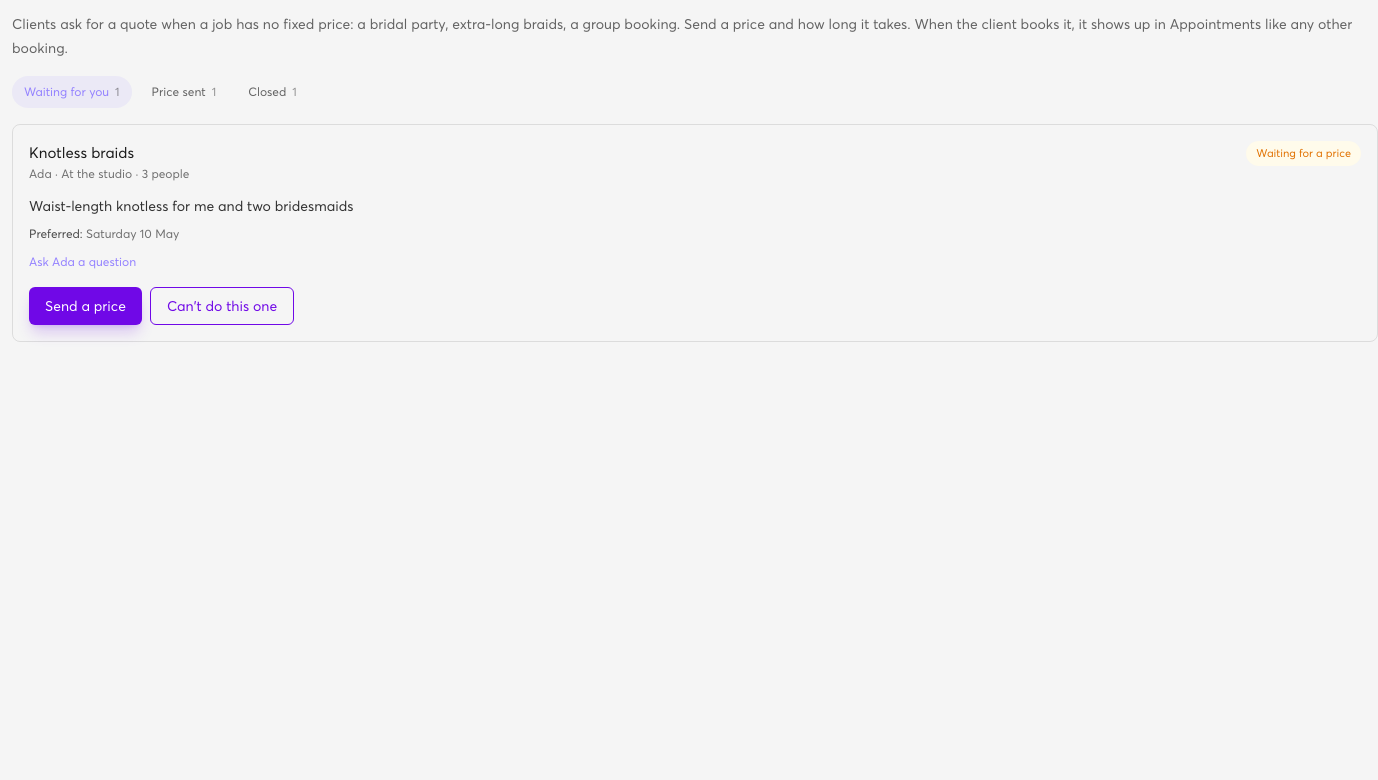
StylerQuotes › sending a price posts it with the duration and how long it holds
Click the button "Send a price": (85, 306) [29,287,142,325]
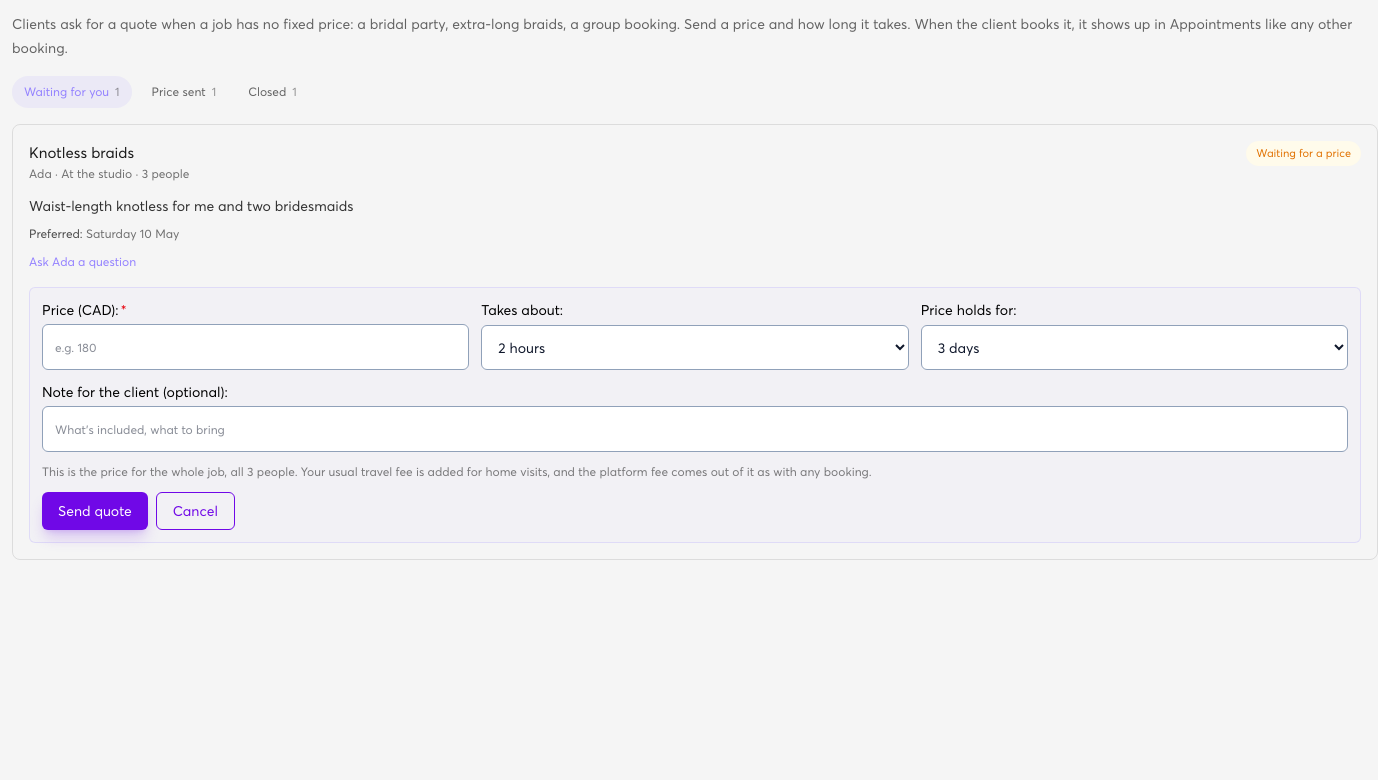
In the field labelled "Price (CAD):": (256, 347) [42,324,469,370], type "$390"
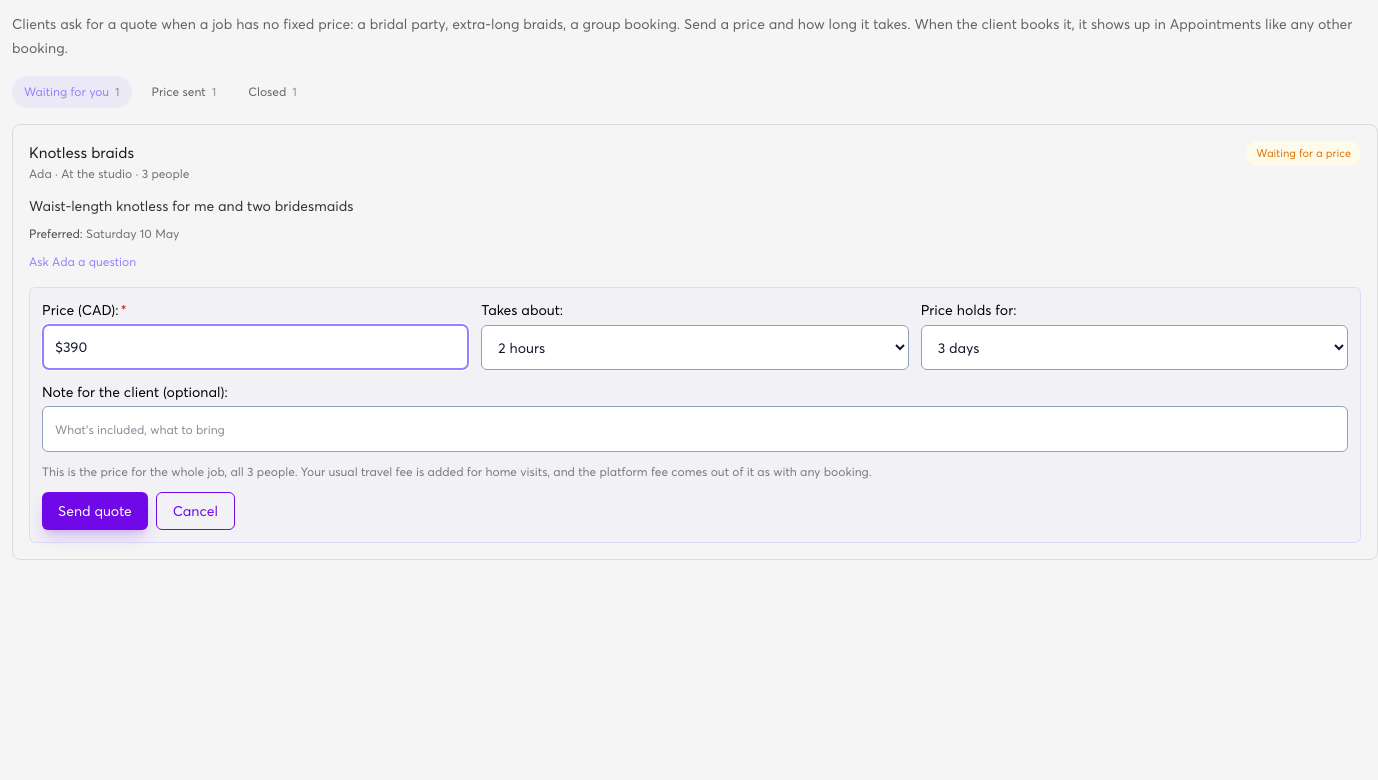
Select "5 hours" in the dropdown labelled "Takes about:": (695, 347) [481,324,909,370]
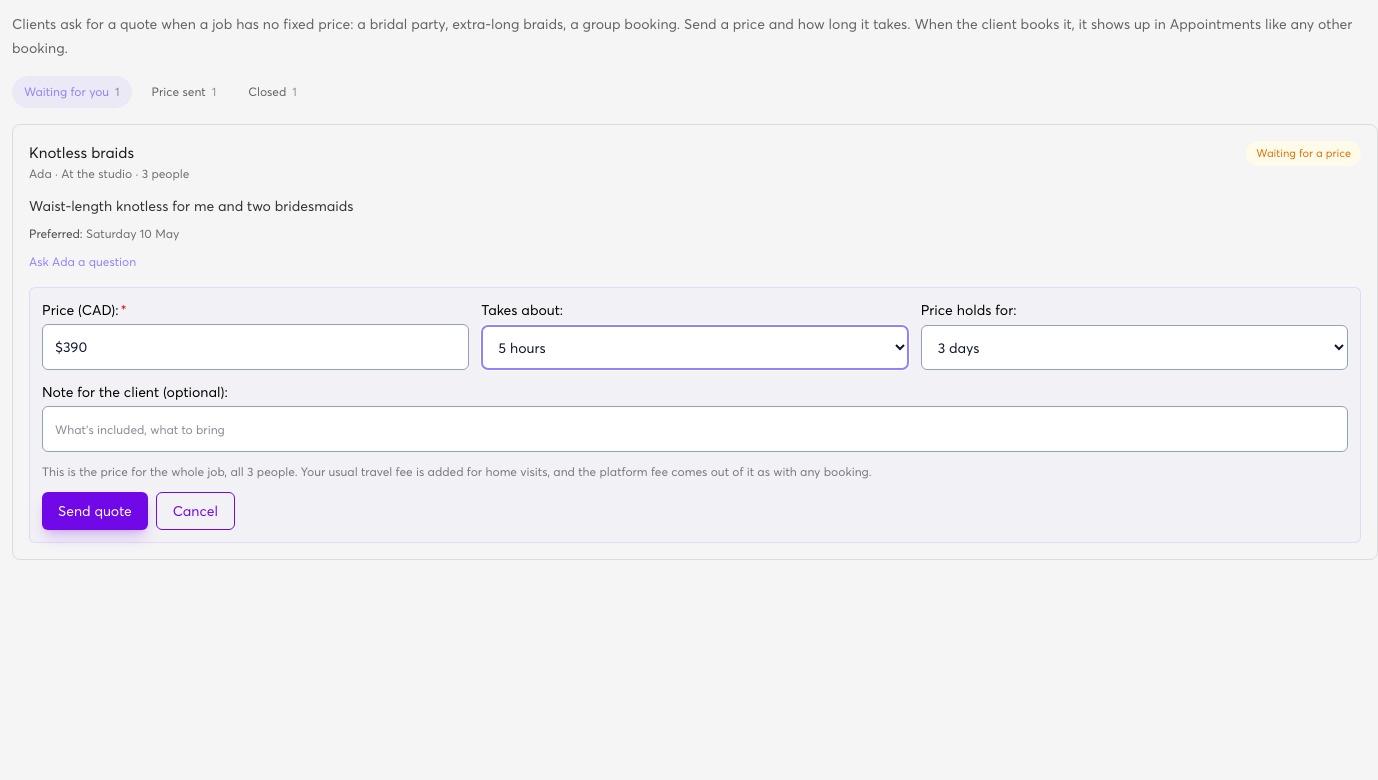
Select "7 days" in the dropdown labelled "Price holds for:": (1134, 347) [921,324,1348,370]
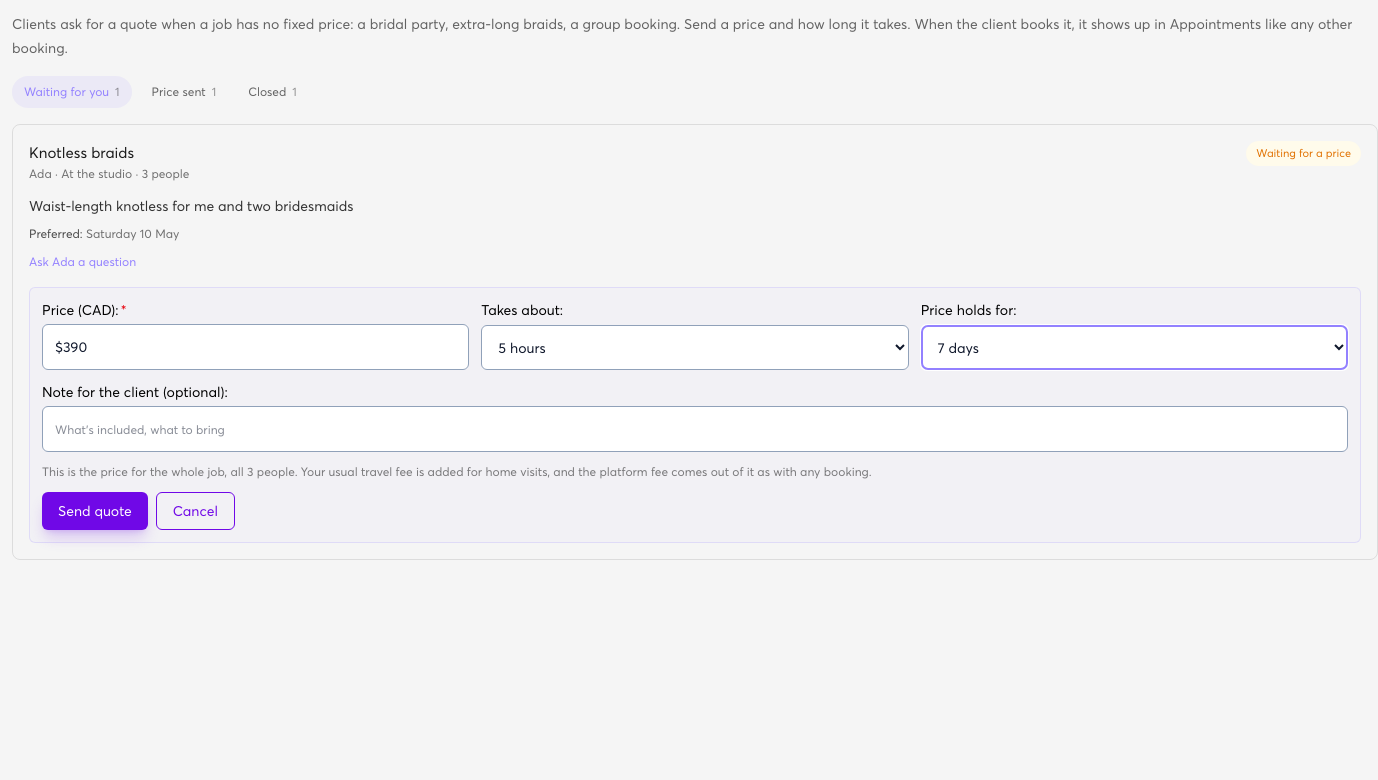
Click the button "Send quote": (95, 511) [42,492,148,530]
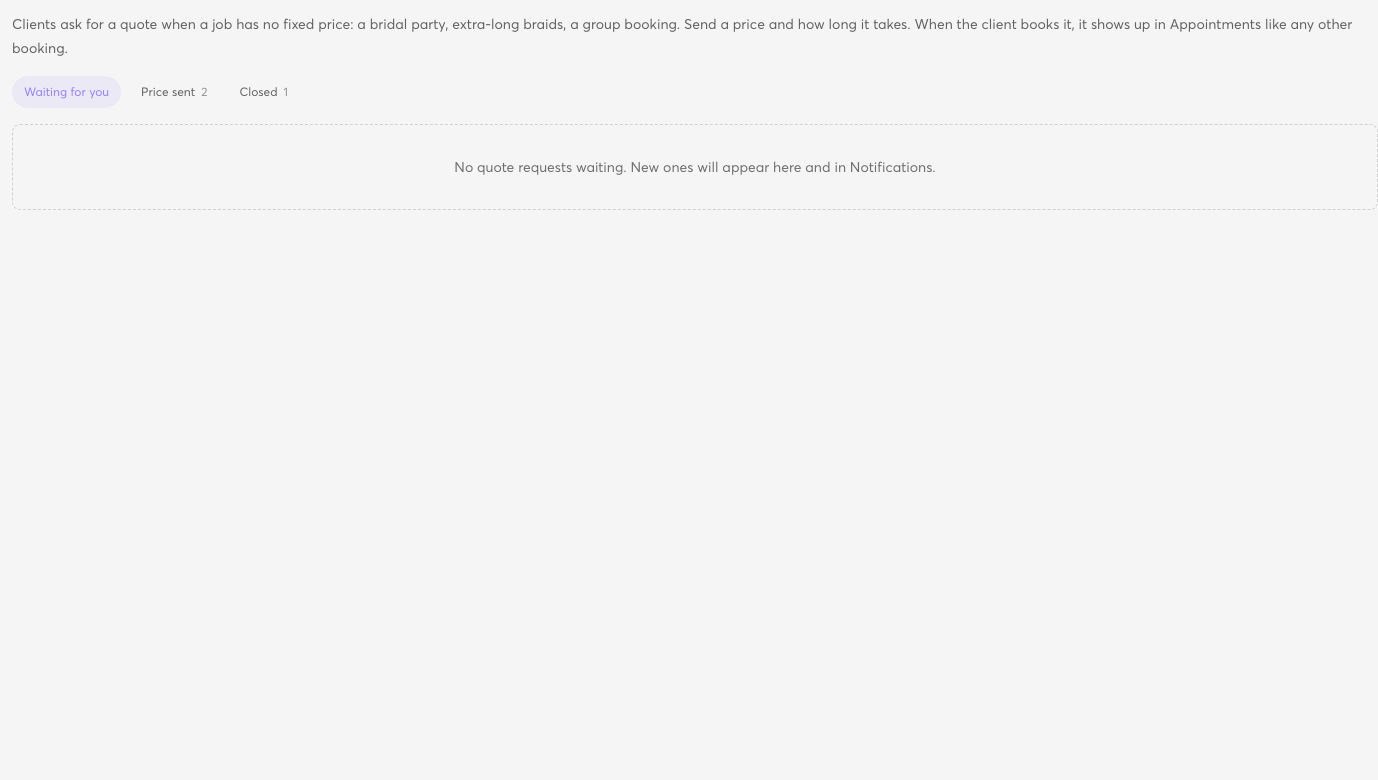
Expected: the text "No quote requests waiting. New ones will appear here and in Notifications." is shown, [12,124,1377,210]
